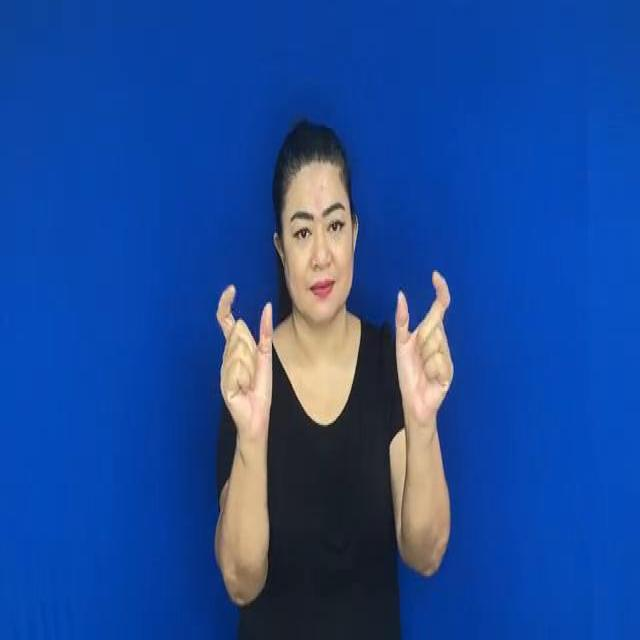crab: (381, 260, 465, 436), (200, 271, 286, 442)
